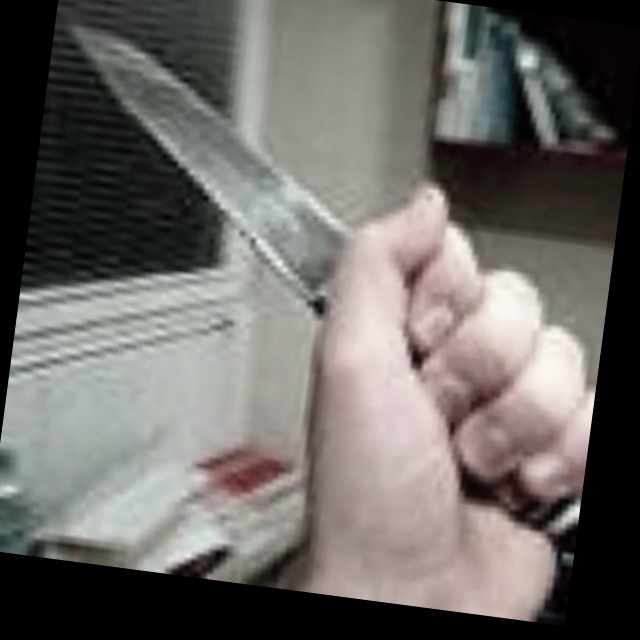Sharp-Object: (21, 31, 628, 544)
